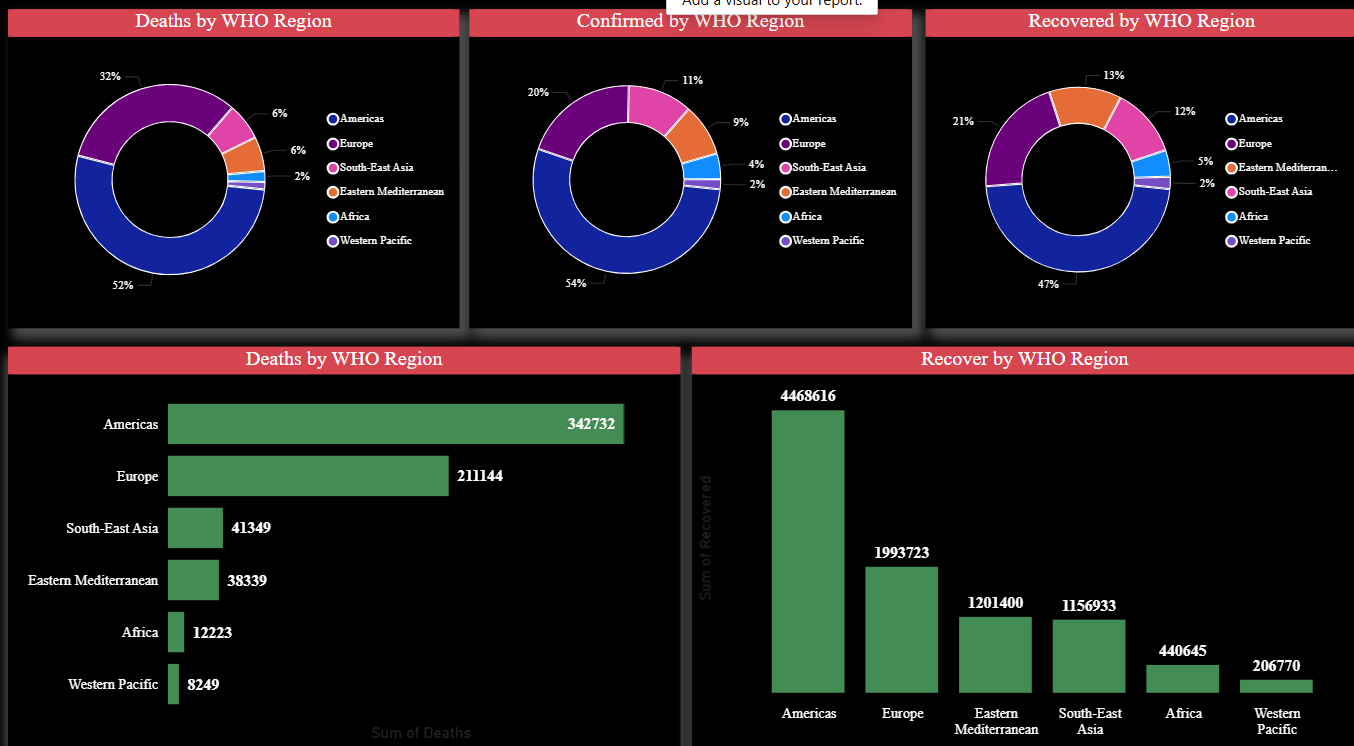

What the dashboard file says about the page in this screenshot:
{"tool":"powerbi","page":{"name":"Deaths & Recovery","canvas":[1280,720],"ordinal":4},"visuals":[{"type":"donutChart","title":"Deaths by WHO Region","fields":{"Category":["country_wise_latest.WHO Region"],"Y":["Sum(country_wise_latest.Deaths)"]},"box":[14,15.1,419.8,296.5],"z":0},{"type":"donutChart","title":"Confirmed by WHO Region","fields":{"Category":["country_wise_latest.WHO Region"],"Y":["Sum(country_wise_latest.Confirmed)"]},"box":[443,15.1,411.6,296.5],"z":1000},{"type":"donutChart","title":"Recovered by WHO Region","fields":{"Category":["country_wise_latest.WHO Region"],"Y":["Sum(country_wise_latest.Recovered)"]},"box":[867.4,15.1,402.3,296.5],"z":2000},{"type":"barChart","title":"Deaths by WHO Region","fields":{"Category":["country_wise_latest.WHO Region"],"Y":["Sum(country_wise_latest.Deaths)"]},"box":[14,329.1,625.6,372.1],"z":3000},{"type":"columnChart","title":"Recover by WHO Region","fields":{"Category":["country_wise_latest.WHO Region"],"Y":["Sum(country_wise_latest.Recovered)"]},"box":[650,329.1,619.8,372.1],"z":4000}]}

Visuals, with their boxes in screenshot pixels (x1, y1, x2, y2), scaled from the page's 1280x720 canvas onto the 1354x746 screenshot:
"Deaths by WHO Region" donutChart: box(15, 16, 459, 323)
"Confirmed by WHO Region" donutChart: box(469, 16, 904, 323)
"Recovered by WHO Region" donutChart: box(918, 16, 1343, 323)
"Deaths by WHO Region" barChart: box(15, 341, 677, 727)
"Recover by WHO Region" columnChart: box(688, 341, 1343, 727)
